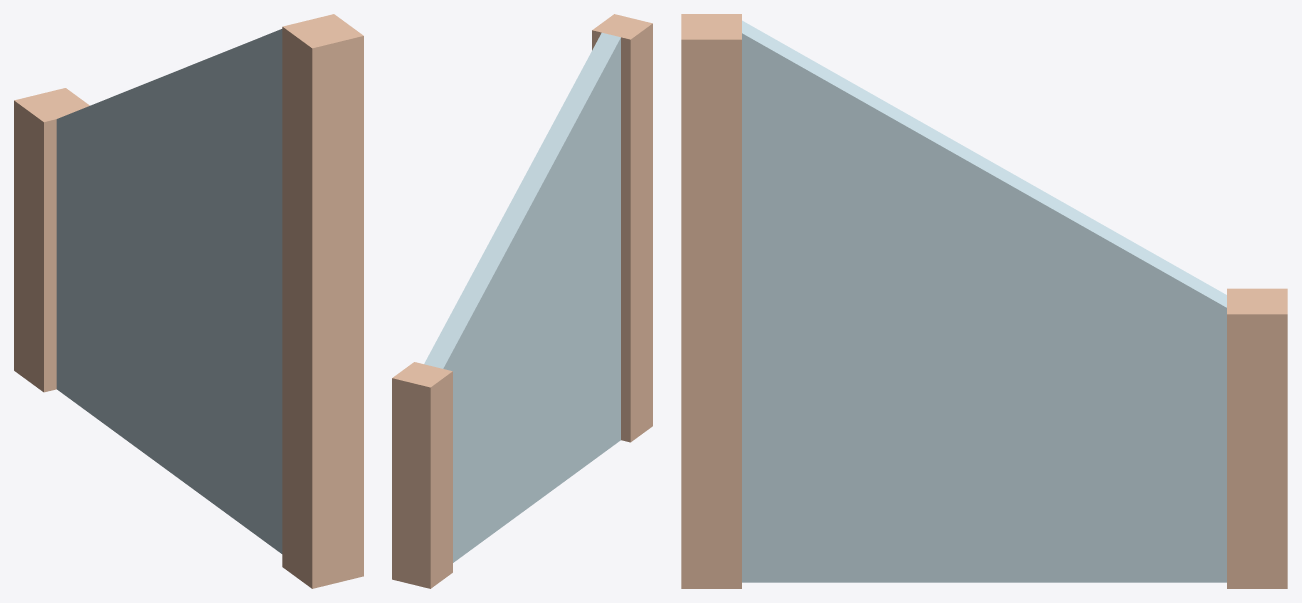
3 views of the same model, side by side, from view 1: azimuth 30°, elevation 25°; view 2: azimuth 150°, elevation 25°; view 3: azimuth 270°, elevation 25° (orthographic). The views are drawn at different scales.
Visible parts, largest first — view 1: wallSlope; view 2: wallSlope; view 3: wallSlope.
Part boxes in pixels (box(x1,y1,x2,y2)): wallSlope: box(14, 14, 363, 588); wallSlope: box(392, 14, 652, 588); wallSlope: box(681, 14, 1287, 588).
Bounding box in the file's own units: 0.1 × 1 × 1.
